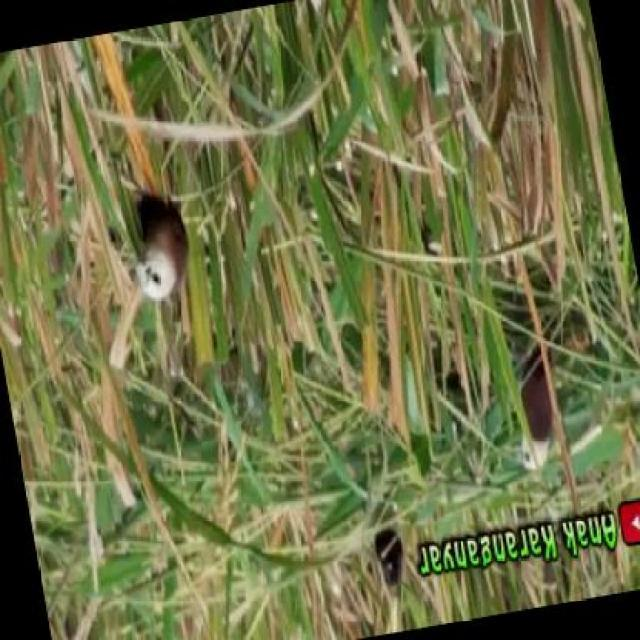Bird: (121, 186, 198, 308), (512, 336, 564, 484), (364, 519, 417, 603)
